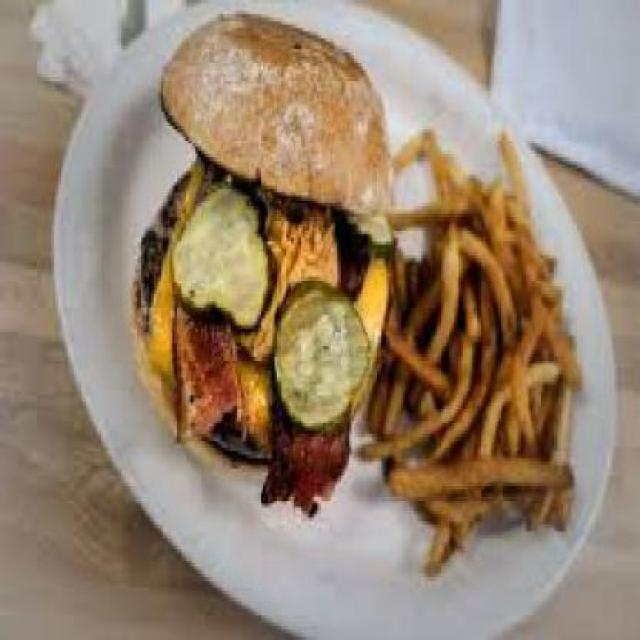french fries: (386, 115, 582, 577)
hamburger: (116, 4, 382, 518)
